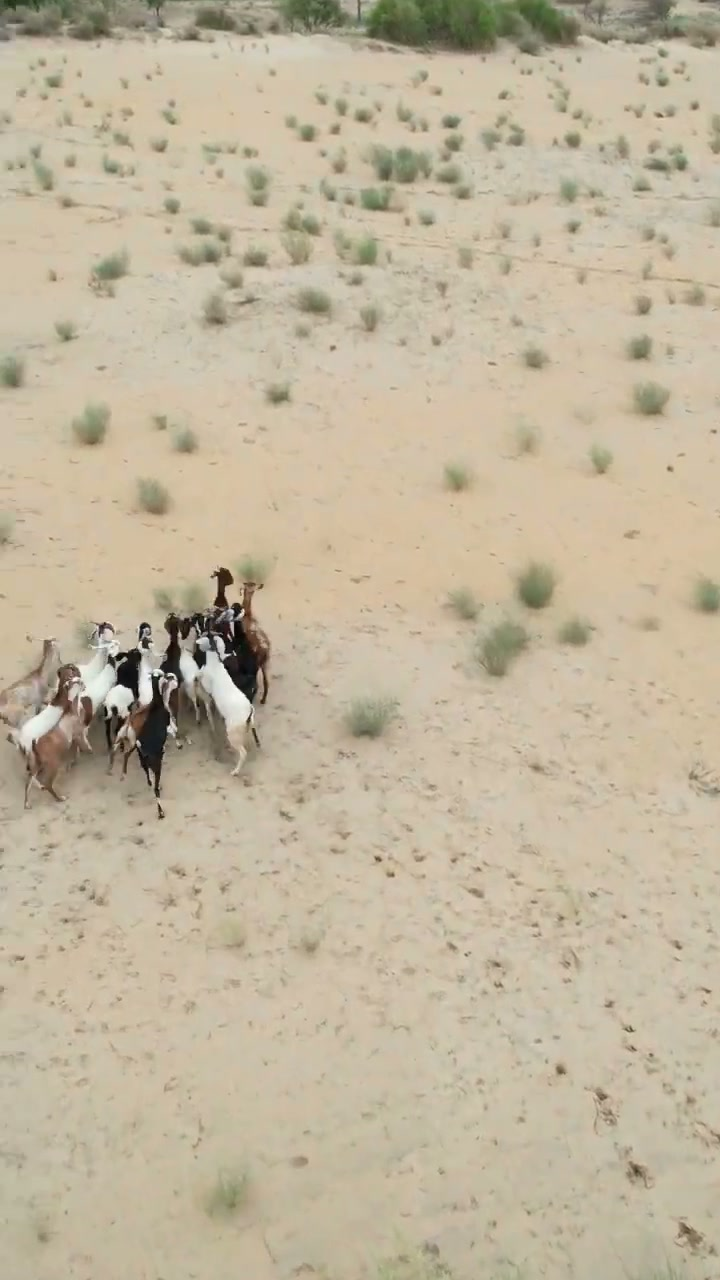animal_footprint: (0, 740, 719, 1279)
